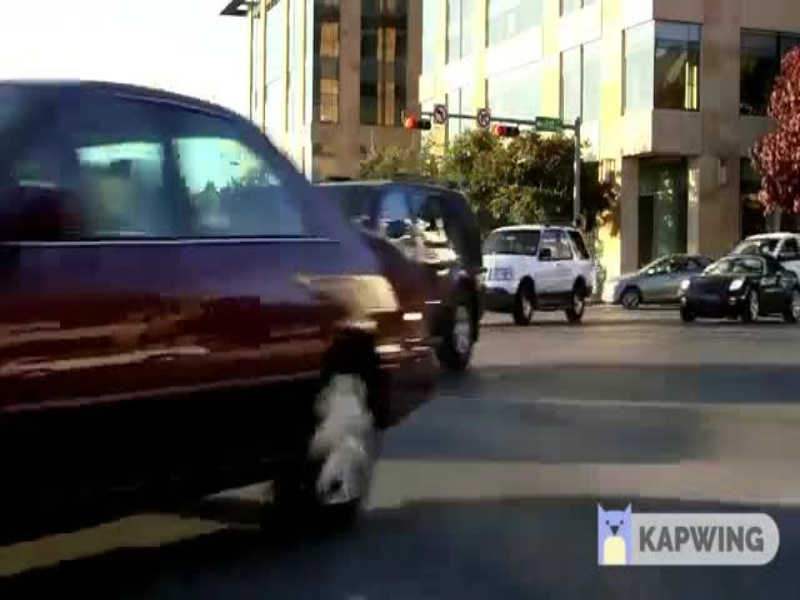car: (1, 76, 422, 563), (680, 250, 796, 326)
suv: (469, 207, 600, 337)
